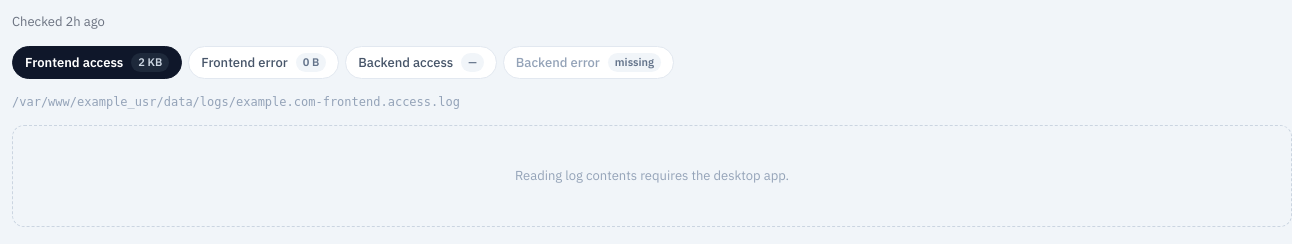
выбор файла › под чипами стоит полный путь ВЫБРАННОГО файла, и он меняется по клику
Expected: the text "/var/www/example_usr/data/logs/example.com-frontend.access.log" is shown, left=12, top=95, right=460, bottom=109
Expected: the text "/var/www/example_usr/data/logs/example.com-backend.error.log" is not shown
Click the button "Backend error missing" at coordinates (588, 62), box left=503, top=46, right=674, bottom=79
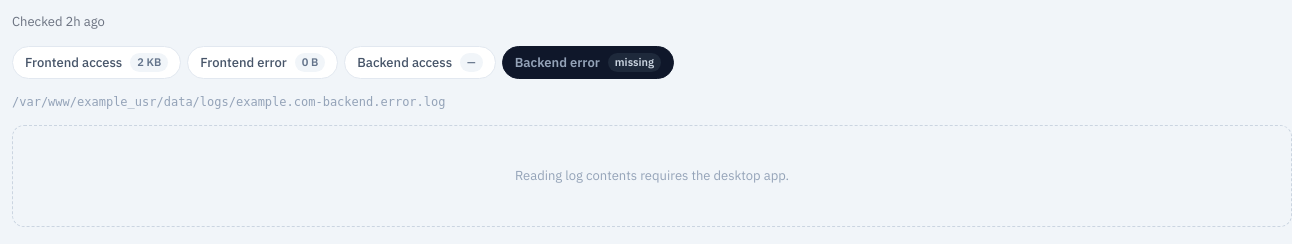
Result: the text "/var/www/example_usr/data/logs/example.com-backend.error.log" is shown at left=12, top=95, right=446, bottom=109
Result: the text "/var/www/example_usr/data/logs/example.com-frontend.access.log" is gone
